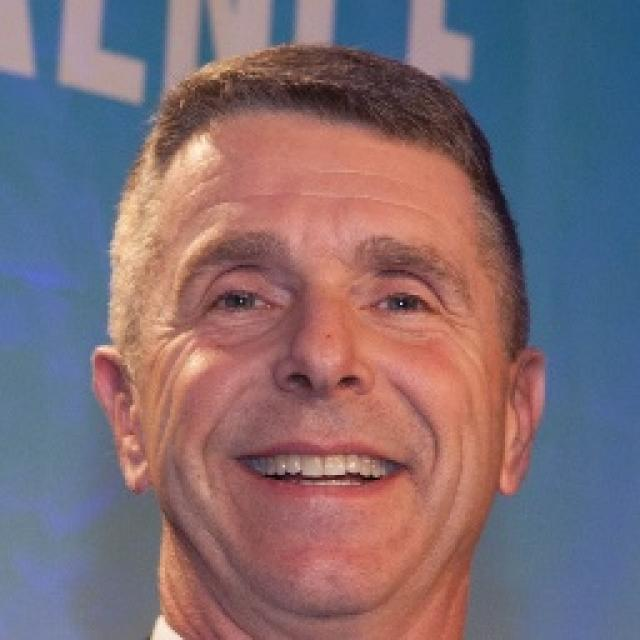earlobe: (90, 344, 155, 496), (496, 347, 546, 498)
